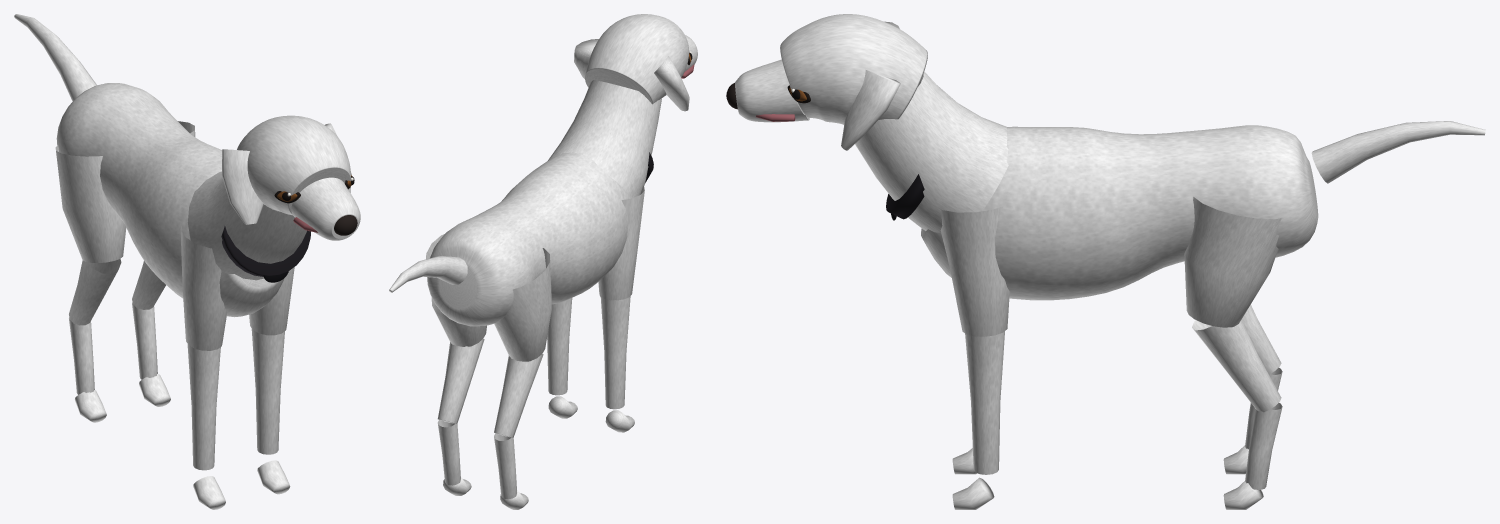
The model's file is ginger.obj.
3 views of the same model, side by side, from view 1: azimuth 30°, elevation 25°; view 2: azimuth 150°, elevation 25°; view 3: azimuth 270°, elevation 25° (orthographic). The views are drawn at different scales.
Parts seen in each view (by area): view 1: coat, white, collar, mask, coat_dark, nose; view 2: coat, white; view 3: coat, white, mask, collar.
Part boxes in pixels (x1,y1,x2,y2): coat: [26, 18, 360, 470]; white: [14, 14, 360, 509]; collar: [221, 226, 310, 276]; mask: [268, 164, 350, 211]; coat_dark: [230, 174, 351, 224]; nose: [334, 215, 357, 235]; coat: [403, 14, 697, 499]; white: [389, 14, 697, 509]; coat: [735, 14, 1449, 489]; white: [735, 15, 1485, 509]; mask: [776, 73, 823, 110]; collar: [886, 174, 924, 219].
Bounding box in the file's own units: 0.4749 × 1.48 × 2.16.
Materials: 12 (4 with a texture image).
